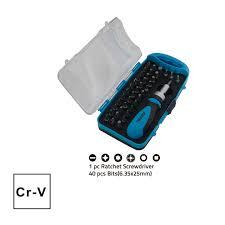screwdriver: (124, 78, 171, 138)
